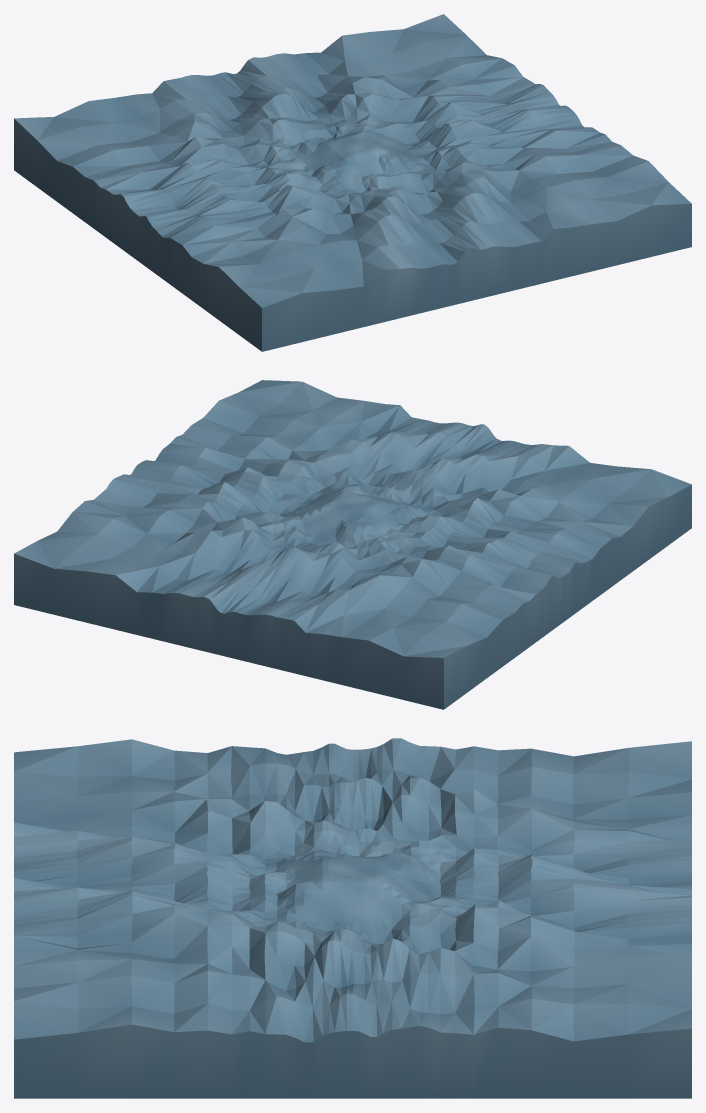
The model's file is frost-terrain.glb.
3 views of the same model, one above another, from view 1: azimuth 30°, elevation 25°; view 2: azimuth 150°, elevation 25°; view 3: azimuth 270°, elevation 25° (orthographic). The views are drawn at different scales.
Parts seen in each view (by area): view 1: frost-terrain; view 2: frost-terrain; view 3: frost-terrain.
Part boxes in pixels (x1,y1,x2,y2): frost-terrain: (14, 14, 691, 351); frost-terrain: (14, 380, 691, 709); frost-terrain: (14, 738, 691, 1098).
Bounding box in the file's own units: 224 × 34.22 × 224.
